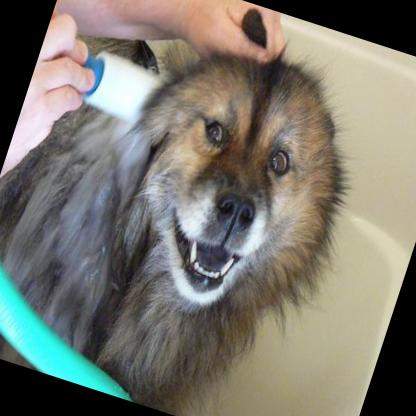keeshond: (0, 0, 399, 416)
